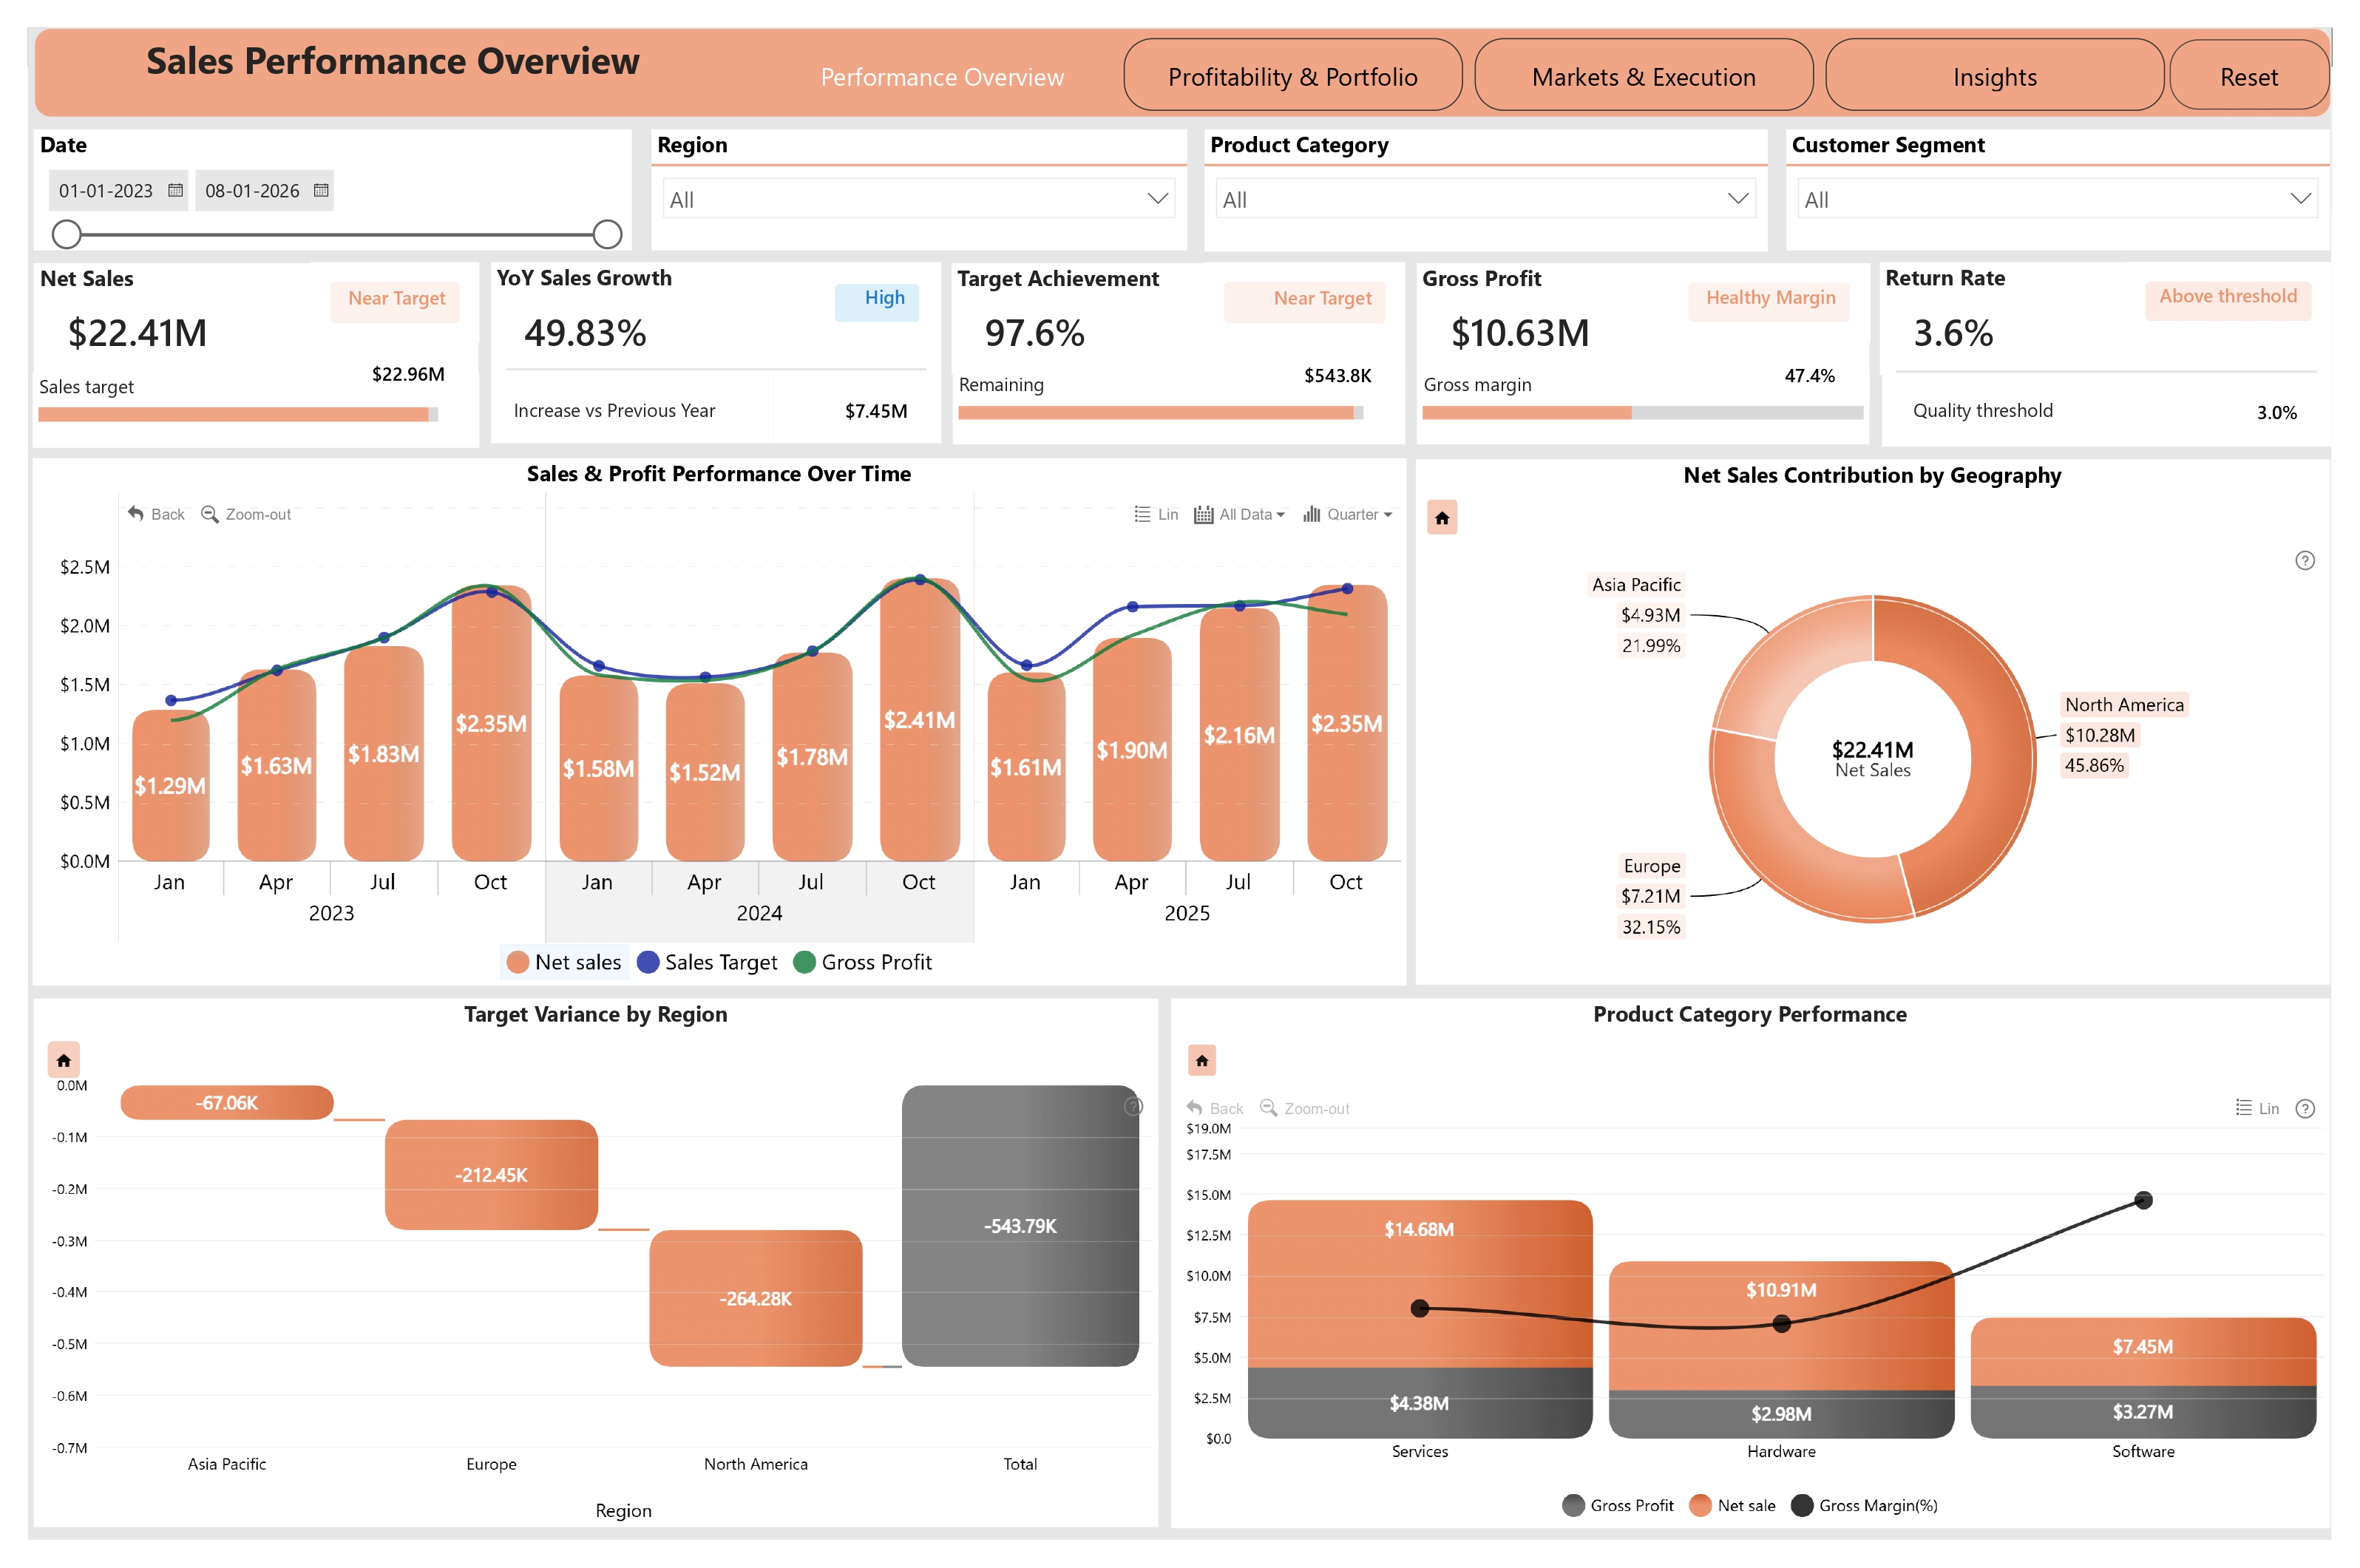

What the dashboard file says about the page in this screenshot:
{"tool":"powerbi","page":{"name":"Performance Overview","canvas":[1995,1310],"ordinal":0},"visuals":[{"type":"cardVisual","title":"Net Sales","fields":{"Data":["Key_Metrix.Net_sales"]},"box":[4.9,203.8,385.4,95.7],"z":0},{"type":"barChart","fields":{"Y":["Key_Metrix.Target_achieved","Key_Metrix.Traget_Remaining"]},"box":[3.9,299.3,387.5,65],"z":1000},{"type":"textbox","box":[0,295.1,140,36.7],"z":2000},{"type":"cardVisual","fields":{"Data":["Key_Metrix.Sales_Target"]},"box":[245,272.9,145,51.7],"z":3000},{"type":"cardVisual","fields":{"Data":["Key_Metrix.Target_status"]},"box":[244.9,202.8,146,70],"z":4000},{"type":"cardVisual","title":"Gross Profit","fields":{"Data":["Key_Metrix.Gross_Profits"]},"box":[1202.9,203.8,390.3,95.7],"z":5000},{"type":"barChart","fields":{"Y":["Key_Metrix.Margin_Achieved","Key_Metrix.Remaning_Margin"]},"box":[1202.9,298.8,392,62],"z":6000},{"type":"textbox","box":[1204.2,292.8,140,38],"z":7000},{"type":"cardVisual","fields":{"Data":["Key_Metrix.Gross_Margin_%"]},"box":[1450.9,272.8,144,52],"z":8000},{"type":"cardVisual","fields":{"Data":["Key_Metrix.Margin_status"]},"box":[1421.4,203.8,174.3,68.7],"z":9000},{"type":"cardVisual","title":"YoY Sales Growth","fields":{"Data":["Key_Metrix.YoY_%"]},"box":[400.9,202.8,390,98],"z":10000},{"type":"textbox","box":[400.6,298.4,245,61.7],"z":11000},{"type":"cardVisual","fields":{"Data":["Key_Metrix.Net_sales_YoY"]},"box":[645.6,300.1,145,60],"z":12000},{"type":"cardVisual","fields":{"Data":["Key_Metrix.YoY_Growth_status"]},"box":[681.8,204.6,108,67.8],"z":13000},{"type":"shape","box":[413.6,221.4,364,150],"z":14000},{"type":"cardVisual","title":"Target Achievement","fields":{"Data":["Key_Metrix.Target_achieved_%"]},"box":[800.3,203.8,390.3,95.7],"z":15000},{"type":"barChart","fields":{"Y":["Key_Metrix.Target_achieved","Key_Metrix.Traget_Remaining"]},"box":[800.9,298.8,392,62],"z":16000},{"type":"textbox","box":[801.1,292.8,140,38],"z":17000},{"type":"cardVisual","fields":{"Data":["Key_Metrix.Traget_Remaining"]},"box":[1046.9,272.8,146,52],"z":18000},{"type":"cardVisual","fields":{"Data":["Key_Metrix.Target_status"]},"box":[1018.9,202.8,174,70],"z":19000},{"type":"cardVisual","title":"Return Rate","fields":{"Data":["Key_Metrix.Return_Rate"]},"box":[1604.3,202.9,390.6,97.6],"z":20000},{"type":"textbox","box":[1605.6,298.4,245,65],"z":21000},{"type":"cardVisual","fields":{"Data":["Key_Metrix.Return_Rate_Threshold"]},"box":[1850.9,298.8,144,64],"z":22000},{"type":"cardVisual","fields":{"Data":["Key_Metrix.Return_rate_status"]},"box":[1816.8,202.9,178.1,68.9],"z":23000},{"type":"shape","box":[1617.8,223.4,365,150],"z":24000},{"type":"ZoomChartsDrillDownTimelinePro7F6C01BA1C534E9AB4A6BCCB44F591","title":"Sales & Profit Performance Over Time","fields":{"Category":["DimDate.Date.Variation.Date Hierarchy.Year","DimDate.Date.Variation.Date Hierarchy.Quarter","DimDate.Date.Variation.Date Hierarchy.Month"],"DateValue":["Min(DimDate.Date)"],"Values1":["Key_Metrix.Net_sales"],"Values2":["Key_Metrix.Sales_Target"],"Values3":["Key_Metrix.Gross_Profits"]},"box":[3.9,372.9,1190.2,457],"z":25000},{"type":"ZoomChartsPieChartPaidE77E4ED357DC402ABA005987437CF500","title":"Net Sales Contribution by Geography","fields":{"Values":["Key_Metrix.Net_sales"],"Category":["DimGeography.Region","DimGeography.Country","DimGeography.City"],"kpiValue":["Key_Metrix.Net_sales"],"kpiContent":["Key_Metrix.KPI_Level"]},"box":[1202.4,373.9,791.9,454.6],"z":26000},{"type":"ZoomChartsAdvancedWaterfallE77E4ED357DC402ABA005987437CF900","title":"Target Variance by Region","fields":{"Category":["DimGeography.Region","DimGeography.Country","DimGeography.City"],"Values1":["Key_Metrix.Target_Varience"]},"box":[4.9,840.8,974,458],"z":27000},{"type":"ZoomChartsFacetChartPaidE77E4ED357DC402ABA005987437CF500","title":"Product Category Performance","fields":{"Values2":["Key_Metrix.Net_sales"],"Values1":["Key_Metrix.Gross_Profits"],"Values3":["Key_Metrix.Gross_Margin_%"],"Category":["DimProduct.Category","DimProduct.Subcategory"]},"box":[989.8,840.7,1004.5,459.5],"z":28000},{"type":"slicer","title":"Date","fields":{"Values":["DimDate.Date"]},"box":[4.9,88,518.1,105.1],"z":29000},{"type":"slicer","title":"Region","fields":{"Values":["DimGeography.Region"]},"box":[540.1,88,464.4,105.1],"z":30000},{"type":"slicer","title":"Product Category","fields":{"Values":["DimProduct.Category"]},"box":[1018.8,88.4,488.5,105.6],"z":31000},{"type":"slicer","title":"Customer Segment","fields":{"Values":["DimCustomer.CustomerSegment"]},"box":[1522.6,88,471.7,105.1],"z":32000},{"type":"textbox","box":[5,0,1990,77.5],"z":33000},{"type":"textbox","box":[4.9,0,623.2,78.2],"z":34000},{"type":"pageNavigator","box":[645.4,8.7,1206.8,63.7],"z":35000},{"type":"actionButton","box":[1855,9.8,139.3,61.1],"z":36000}]}

Visuals, with their boxes on the page's 1995x1310 design canvas (x1, y1, x2, y2). These are canvas units, not pixel positions in the 2360x1568 screenshot, which may show the page scaled, cropped or inside an application window:
"Net Sales" cardVisual: [5,204,390,300]
barChart - Key_Metrix.Target_achieved x Key_Metrix.Traget_Remaining: [4,299,391,364]
textbox: [0,295,140,332]
cardVisual - Key_Metrix.Sales_Target: [245,273,390,325]
cardVisual - Key_Metrix.Target_status: [245,203,391,273]
"Gross Profit" cardVisual: [1203,204,1593,300]
barChart - Key_Metrix.Margin_Achieved x Key_Metrix.Remaning_Margin: [1203,299,1595,361]
textbox: [1204,293,1344,331]
cardVisual - Key_Metrix.Gross_Margin_%: [1451,273,1595,325]
cardVisual - Key_Metrix.Margin_status: [1421,204,1596,272]
"YoY Sales Growth" cardVisual: [401,203,791,301]
textbox: [401,298,646,360]
cardVisual - Key_Metrix.Net_sales_YoY: [646,300,791,360]
cardVisual - Key_Metrix.YoY_Growth_status: [682,205,790,272]
shape: [414,221,778,371]
"Target Achievement" cardVisual: [800,204,1191,300]
barChart - Key_Metrix.Target_achieved x Key_Metrix.Traget_Remaining: [801,299,1193,361]
textbox: [801,293,941,331]
cardVisual - Key_Metrix.Traget_Remaining: [1047,273,1193,325]
cardVisual - Key_Metrix.Target_status: [1019,203,1193,273]
"Return Rate" cardVisual: [1604,203,1995,300]
textbox: [1606,298,1851,363]
cardVisual - Key_Metrix.Return_Rate_Threshold: [1851,299,1995,363]
cardVisual - Key_Metrix.Return_rate_status: [1817,203,1995,272]
shape: [1618,223,1983,373]
"Sales & Profit Performance Over Time" ZoomChartsDrillDownTimelinePro7F6C01BA1C534E9AB4A6BCCB44F591: [4,373,1194,830]
"Net Sales Contribution by Geography" ZoomChartsPieChartPaidE77E4ED357DC402ABA005987437CF500: [1202,374,1994,828]
"Target Variance by Region" ZoomChartsAdvancedWaterfallE77E4ED357DC402ABA005987437CF900: [5,841,979,1299]
"Product Category Performance" ZoomChartsFacetChartPaidE77E4ED357DC402ABA005987437CF500: [990,841,1994,1300]
"Date" slicer: [5,88,523,193]
"Region" slicer: [540,88,1004,193]
"Product Category" slicer: [1019,88,1507,194]
"Customer Segment" slicer: [1523,88,1994,193]
textbox: [5,0,1995,78]
textbox: [5,0,628,78]
pageNavigator: [645,9,1852,72]
actionButton: [1855,10,1994,71]
